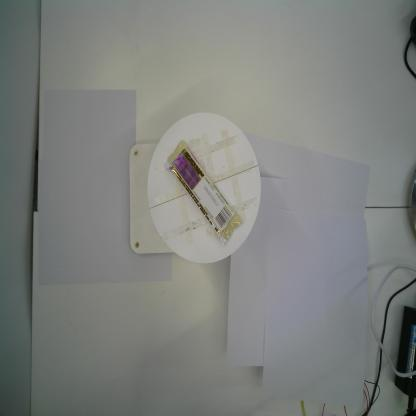Chocolate: (164, 140, 243, 245)
